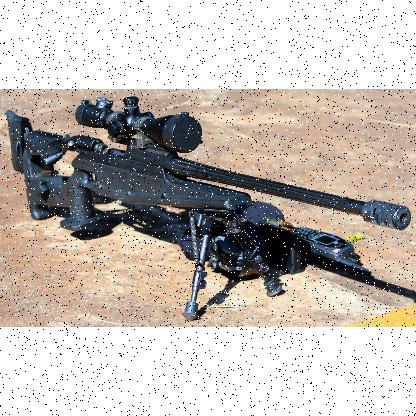gun: (6, 95, 410, 320)
